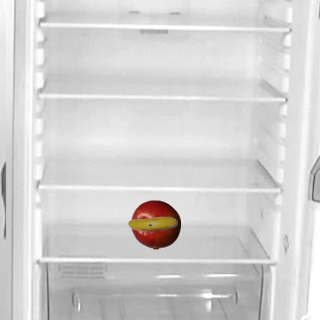Apple Braeburn: (130, 199, 180, 249)
Banana: (127, 199, 177, 249)
